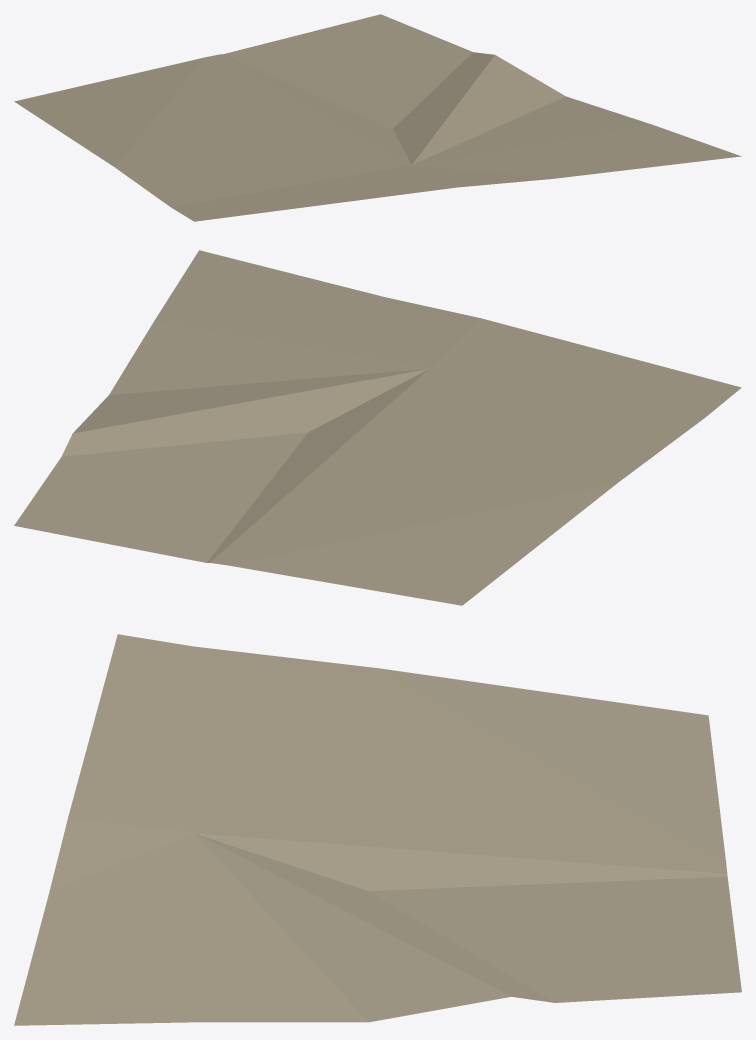
The model's file is farm_1_-4_soil.glb.
3 views of the same model, one above another, from view 1: azimuth 30°, elevation 25°; view 2: azimuth 150°, elevation 25°; view 3: azimuth 270°, elevation 25° (orthographic). The views are drawn at different scales.
Visible parts, largest first — view 1: geometry_0; view 2: geometry_0; view 3: geometry_0.
Part boxes in pixels (x1,y1,x2,y2): geometry_0: (14,14,741,221); geometry_0: (14,250,741,605); geometry_0: (14,634,741,1025).
Bounding box in the file's own units: 118 × 12.52 × 105.
